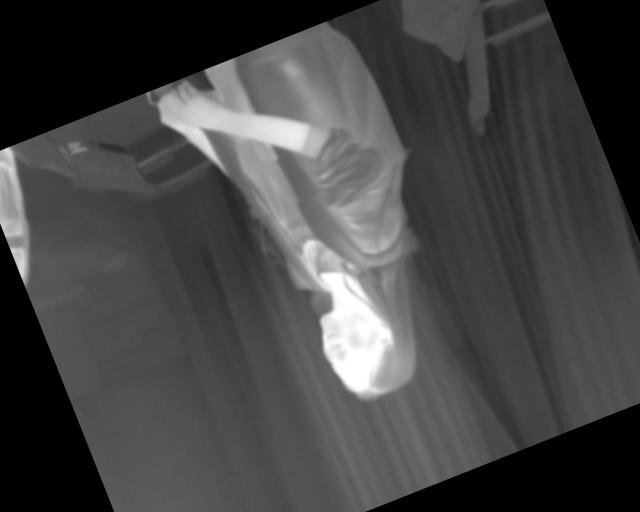face: (309, 285, 427, 412)
